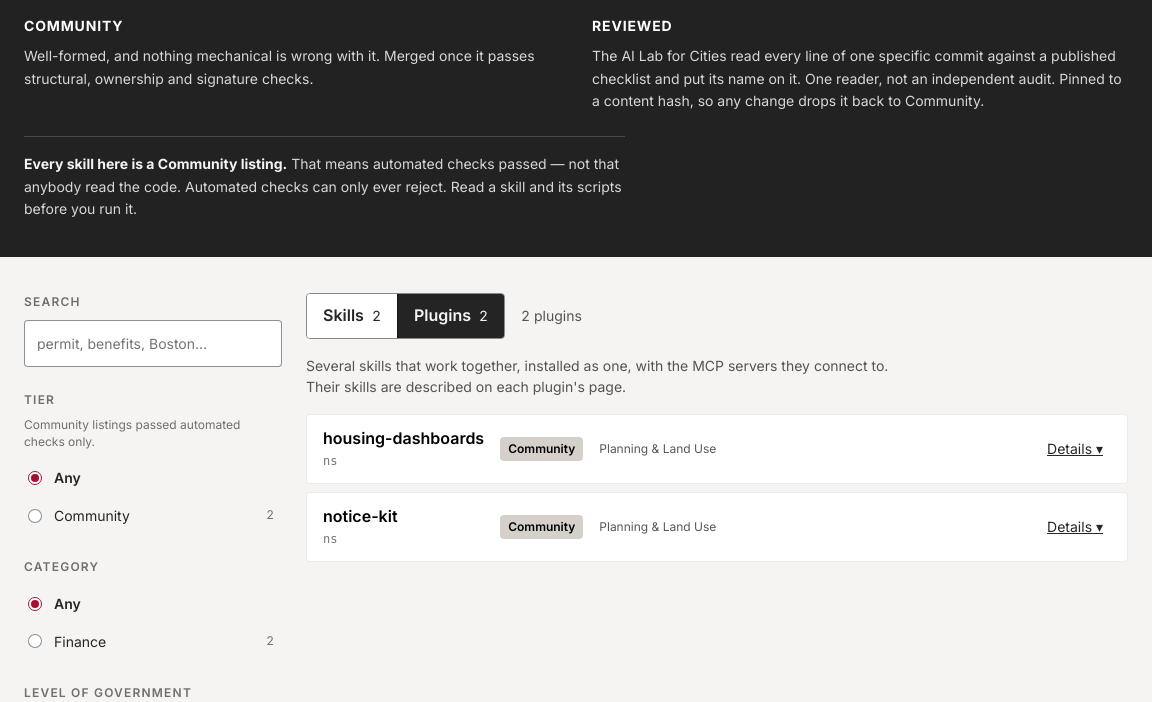
Scenario: search and counts on the browse page (#299) › narrows the plugins to those matching every word of the search
The width and height of the screenshot is (1152, 702).
(page scrolled)
Expected: the element named "plugins" is shown, top-left (306, 354), bottom-right (1128, 562)
In the search field labelled "Search": (153, 343) top-left (24, 319), bottom-right (282, 367), type "plain notices"
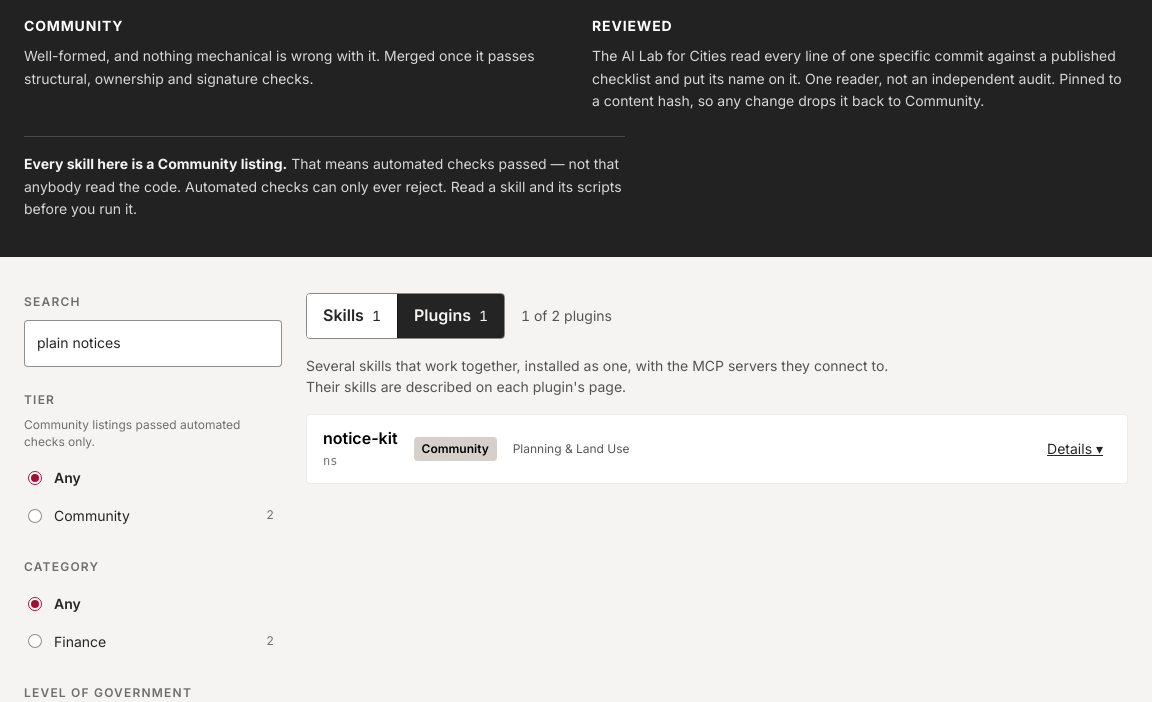
Expected: the link "notice-kit" is shown, top-left (323, 428), bottom-right (398, 448)
Result: the link "housing-dashboards" is gone
